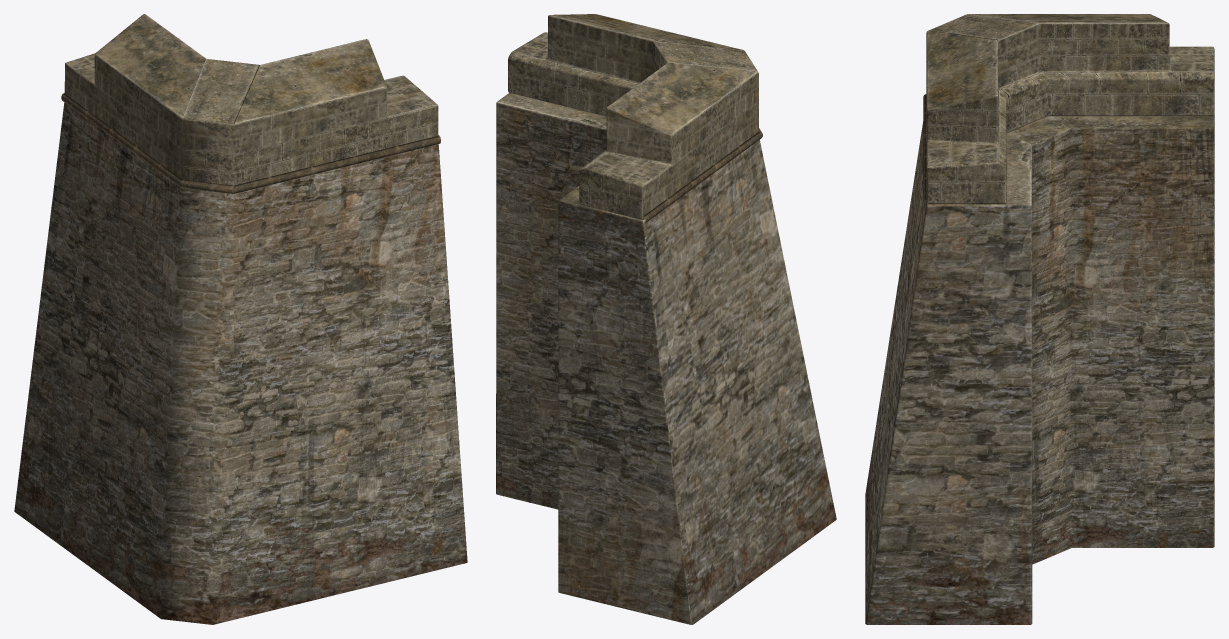
The model's file is modular_fort_01_wall_thin_corner_02.gltf.
The picture shows the model from 3 angles, left to right: view 1: azimuth 30°, elevation 25°; view 2: azimuth 150°, elevation 25°; view 3: azimuth 270°, elevation 25°; orthographic projection. The views are drawn at different scales.
Parts seen in each view (by area): view 1: modular_fort_01_wall_thin_corner_02__x; view 2: modular_fort_01_wall_thin_corner_02__x; view 3: modular_fort_01_wall_thin_corner_02__x.
Boxes of the visible parts, x1=… form: modular_fort_01_wall_thin_corner_02__x: x1=14, y1=14, x2=467, y2=624; modular_fort_01_wall_thin_corner_02__x: x1=496, y1=14, x2=836, y2=624; modular_fort_01_wall_thin_corner_02__x: x1=865, y1=14, x2=1214, y2=624.
Bounding box in the file's own units: 5.34 × 8.61 × 5.34.
2 materials, 2 textured.
